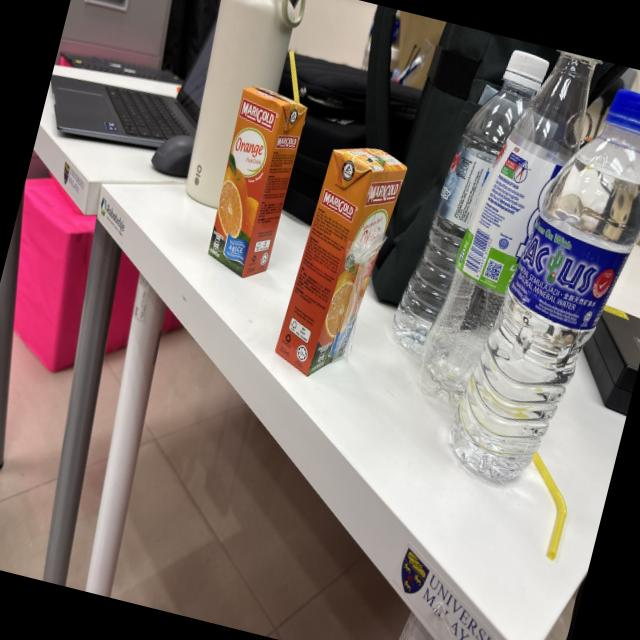drink_carton: (258, 126, 416, 400), (198, 27, 332, 284)
plastic_bottle: (427, 56, 640, 518), (402, 35, 608, 435), (377, 26, 563, 397)
